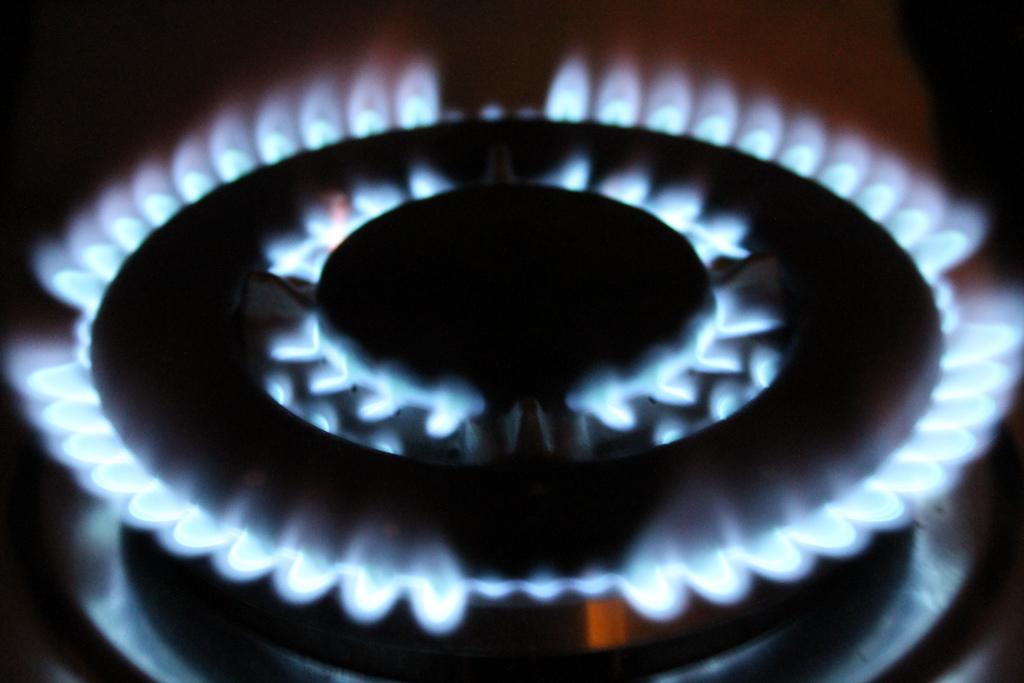fire: (127, 497, 490, 605), (647, 477, 903, 580), (657, 317, 772, 425), (563, 62, 742, 127)
